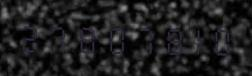eight: (71, 19, 97, 55), (152, 20, 178, 56)
one: (179, 20, 205, 57)
seven: (44, 18, 70, 55), (125, 19, 151, 56)
two: (17, 18, 43, 54)
zero: (98, 19, 124, 55), (206, 21, 232, 57)
